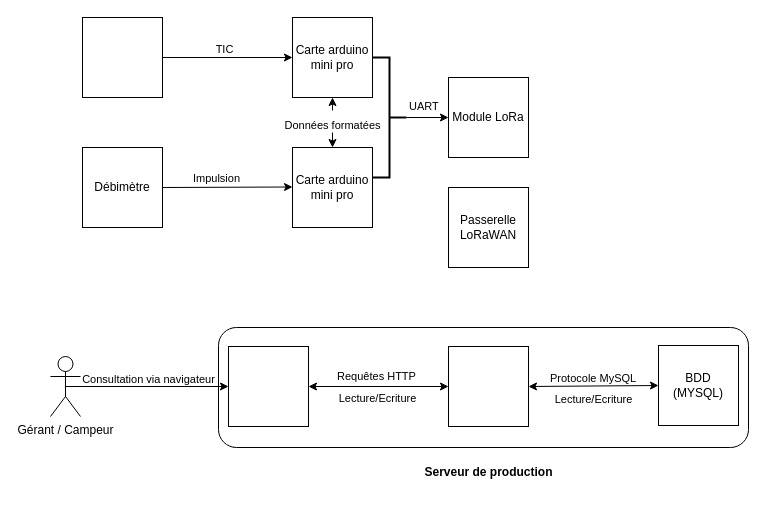
Some shapes in this 766 by 505 pixel diagram are drawn without their labels. Each missing label, with the box of its shape:
API REST (Flask): (448, 346, 528, 426)
Frontend (Vue.js): (228, 346, 308, 426)
Linky: (82, 16, 162, 98)
